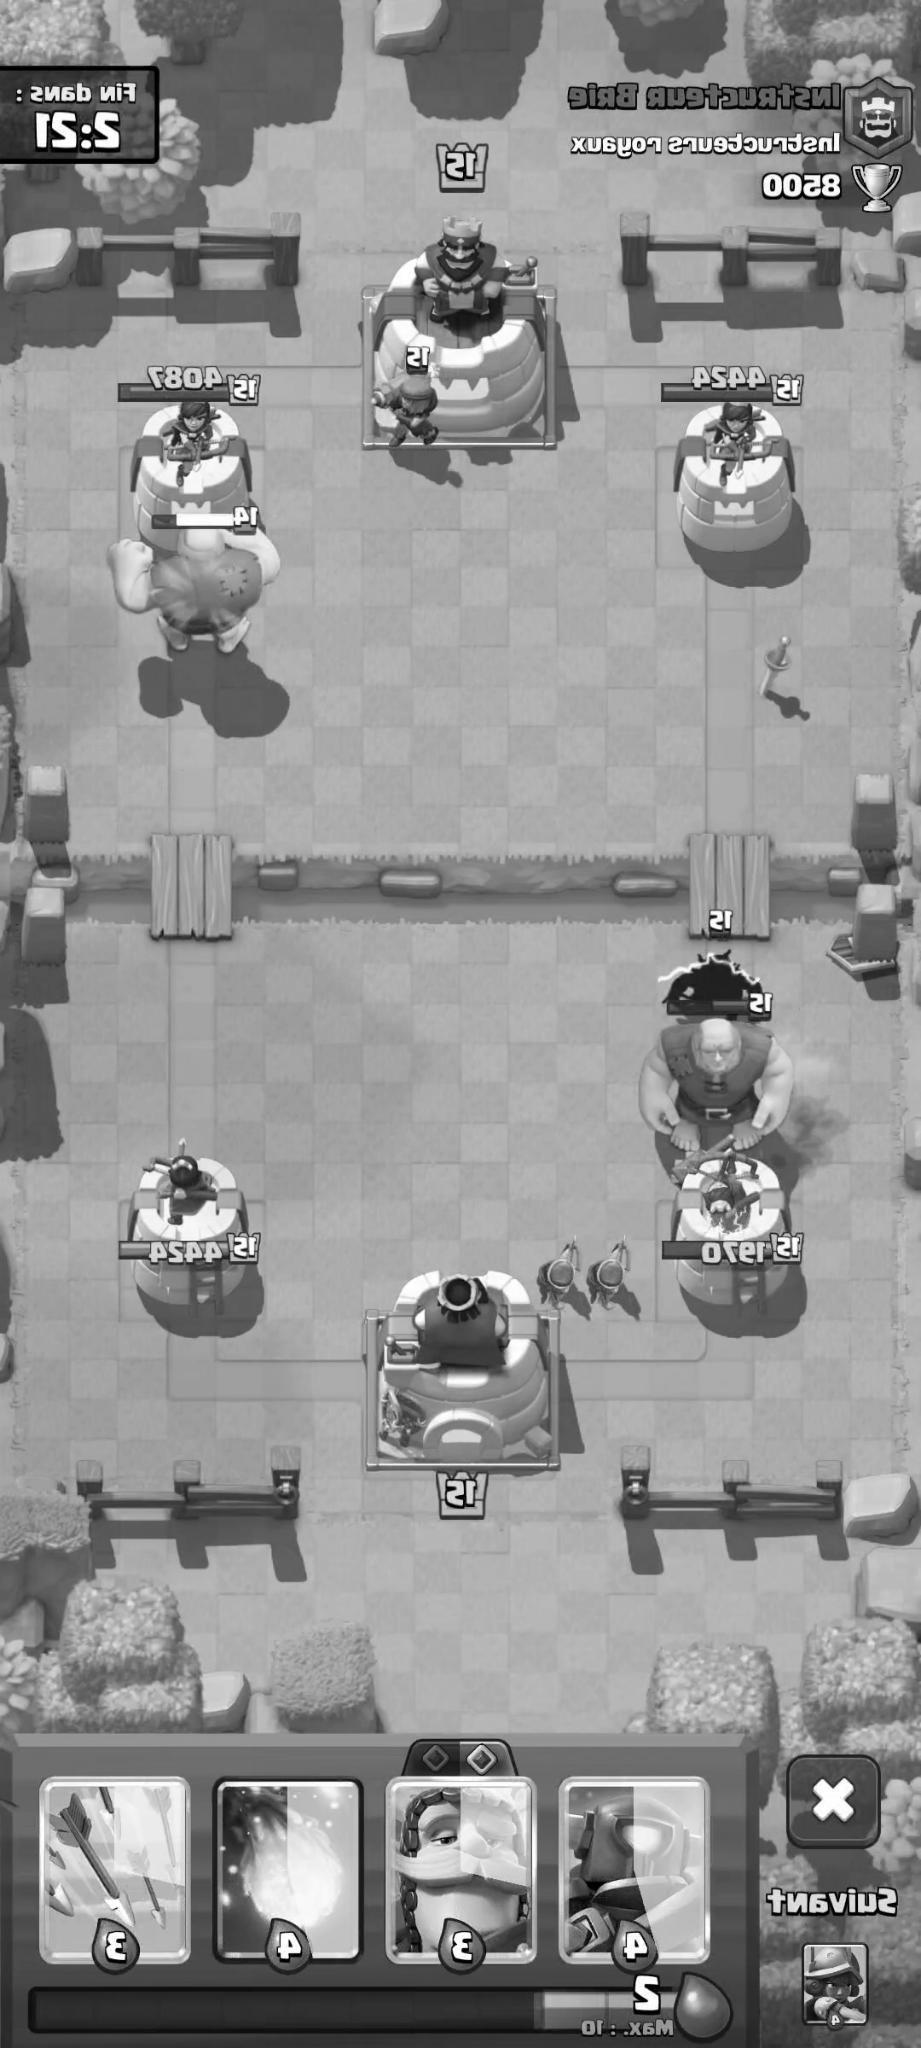archere: (529, 1234, 600, 1334), (585, 1232, 648, 1317)
geant: (105, 503, 290, 674), (631, 998, 802, 1157)
